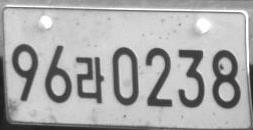0: (111, 46, 139, 106)
2: (144, 47, 172, 107)
3: (177, 49, 205, 108)
6: (44, 44, 72, 104)
8: (211, 48, 241, 109)
9: (11, 42, 39, 101)
라: (75, 56, 105, 104)
